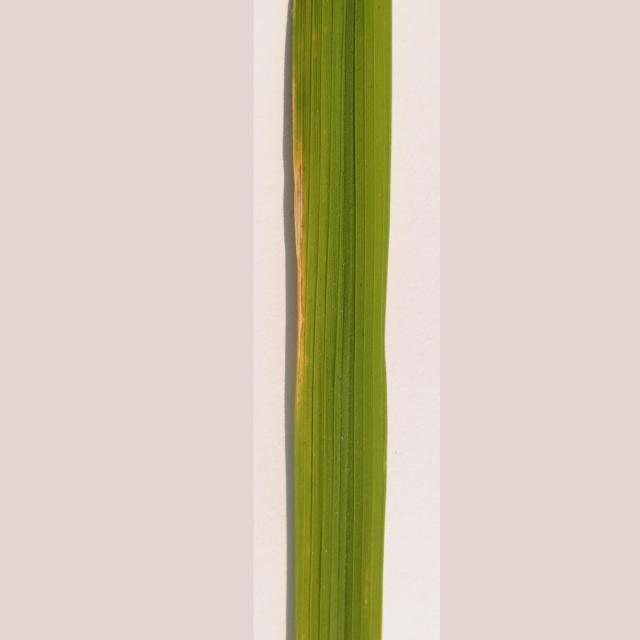Bacterial leaf blight: (286, 53, 316, 426)
